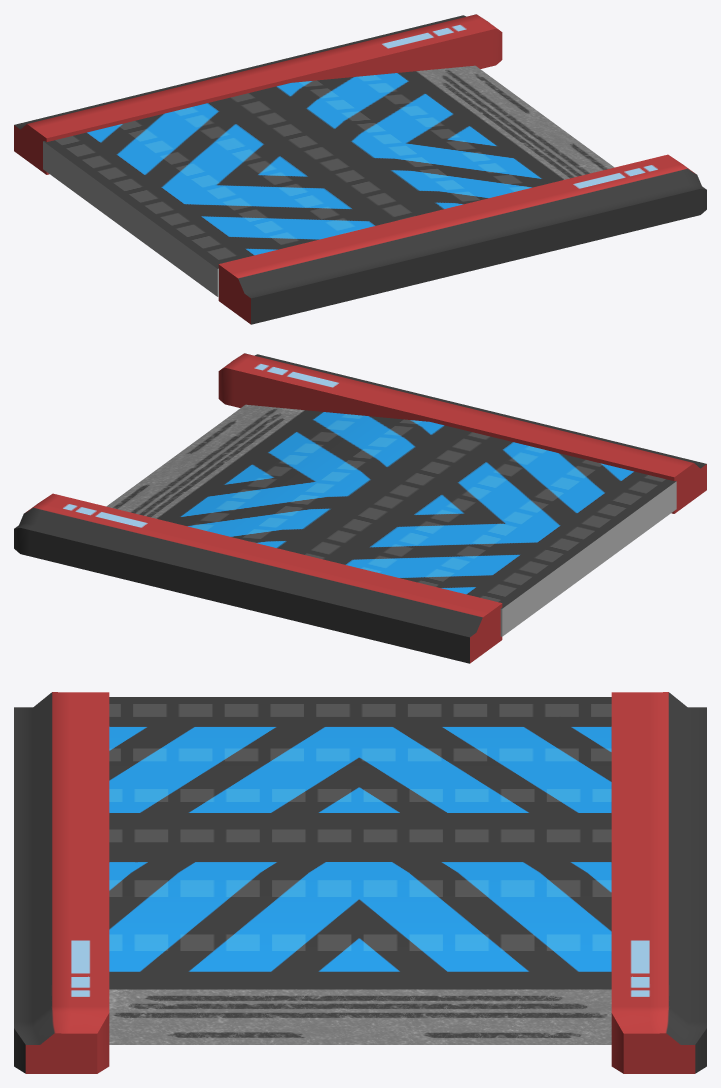
Rendered from dashboard.fbx.
3 views of the same model, one above another, from view 1: azimuth 30°, elevation 25°; view 2: azimuth 150°, elevation 25°; view 3: azimuth 270°, elevation 25° (orthographic). The views are drawn at different scales.
Visible parts, largest first — view 1: pasted__pCube1, polySurface10, polySurface9; view 2: pasted__pCube1, polySurface9, polySurface10; view 3: pasted__pCube1, polySurface9, polySurface10.
Part boxes in pixels (bbox=[...]): pasted__pCube1: bbox=[43, 65, 614, 296]; polySurface10: bbox=[218, 154, 706, 324]; polySurface9: bbox=[14, 14, 502, 174]; pasted__pCube1: bbox=[106, 404, 676, 636]; polySurface9: bbox=[14, 493, 502, 663]; polySurface10: bbox=[218, 353, 706, 513]; pasted__pCube1: bbox=[109, 697, 611, 1044]; polySurface9: bbox=[611, 692, 706, 1073]; polySurface10: bbox=[14, 692, 109, 1073].
Bounding box in the file's own units: 3.78 × 0.288 × 3.36.
3 materials, 2 textured.
